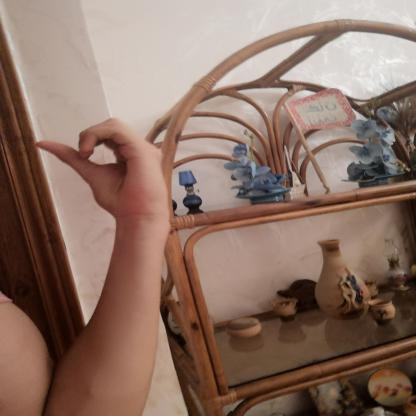WAW: (22, 108, 181, 230)
